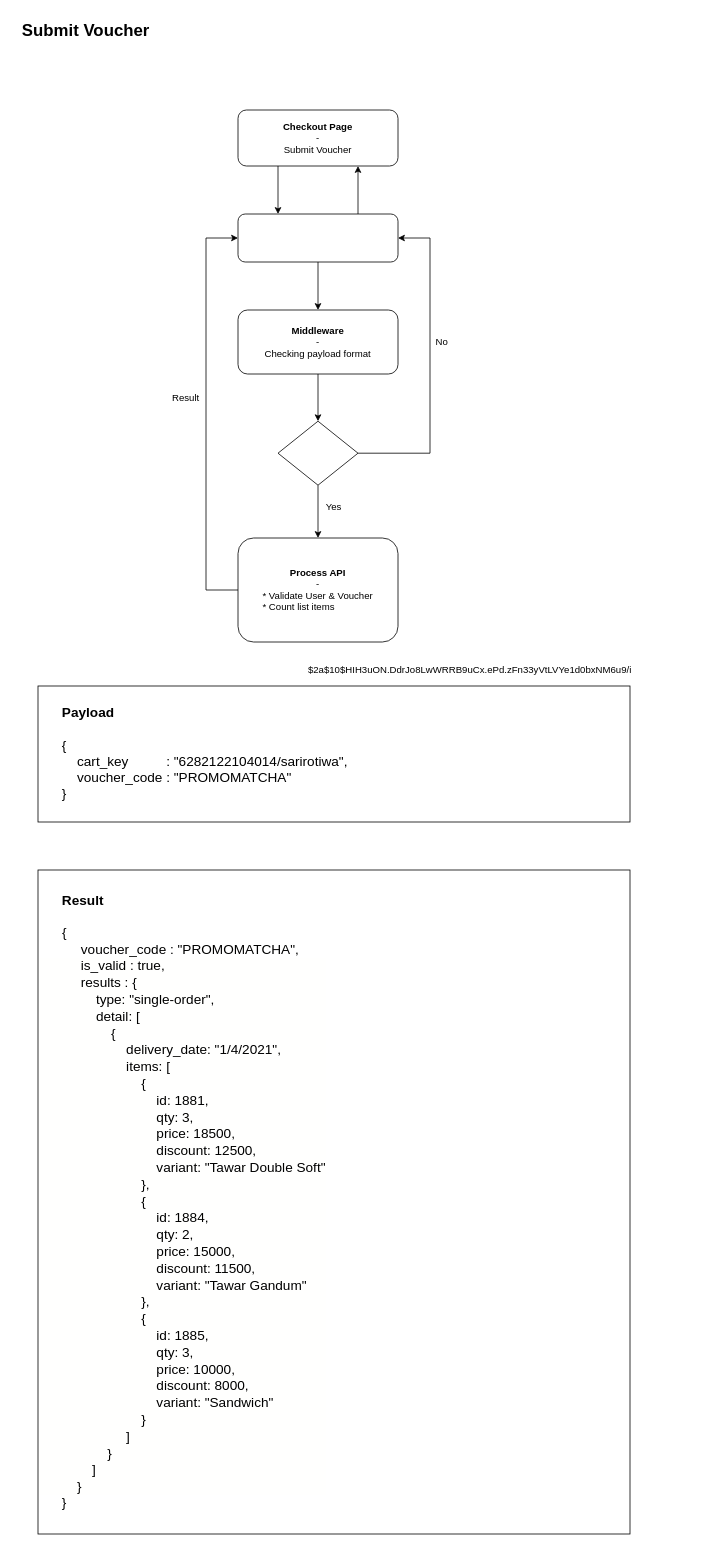
Image size: 707x1548. Some labels were removed from this diagram. Each missing label, with the box of its shape:
Express: (237, 213, 398, 262)
Is valid?: (277, 420, 358, 485)
